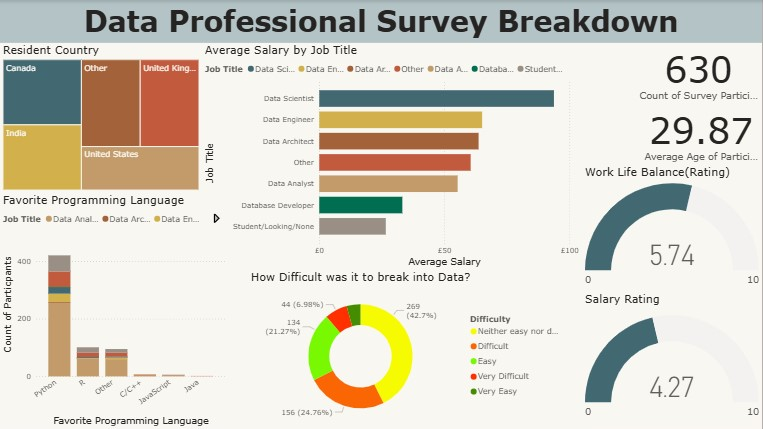

Layout of this report page (visuals, bound fields, positions):
{"tool":"powerbi","page":{"name":"Page 1","canvas":[1280,720],"ordinal":0},"visuals":[{"type":"textbox","box":[0,0,1280,72.2],"z":0},{"type":"card","fields":{"Values":["Count(Data Professional Survey.Unique ID)"]},"box":[1066.7,72.2,213.3,102.5],"z":1000},{"type":"card","fields":{"Values":["Avg(Data Professional Survey.Q10 - Current Age)"]},"box":[1075.1,174.7,204.9,102.5],"z":2000},{"type":"barChart","title":"Average Salary by Job Title","fields":{"Category":["Data Professional Survey.Q1 - Which Title Best Fits your Current Role?.1"],"Y":["Avg(Data Professional Survey.Average Salary)"],"Series":["Data Professional Survey.Q1 - Which Title Best Fits your Current Role?.1"]},"box":[339.3,72.2,638.3,381.3],"z":3000},{"type":"columnChart","title":"Favorite Programming Language","fields":{"Category":["Data Professional Survey.Q5 - Favorite Programming Language.1"],"Y":["CountNonNull(Data Professional Survey.Unique ID)"],"Series":["Data Professional Survey.Q1 - Which Title Best Fits your Current Role?.1"]},"box":[0,324.2,383,396.4],"z":4000},{"type":"treemap","title":"Resident Country","fields":{"Group":["Data Professional Survey.Q11 - Which Country do you live in?.1"],"Values":["Count(Data Professional Survey.Q11 - Which Country do you live in?.1)"]},"box":[0,72.2,339.3,252],"z":5000},{"type":"gauge","title":"Work Life Balance(Rating)","fields":{"Y":["Avg(Data Professional Survey.Q6 - How Happy are you in your Current Position with the following? (Work/Life Balance))"],"MinValue":["Min(Data Professional Survey.Q6 - How Happy are you in your Current Position with the following? (Work/Life Balance))1"],"MaxValue":["Max(Data Professional Survey.Q6 - How Happy are you in your Current Position with the following? (Work/Life Balance))2"]},"box":[977.6,277.2,302.4,213.3],"z":6000},{"type":"gauge","title":"Salary Rating","fields":{"Y":["Avg(Data Professional Survey.Q6 - How Happy are you in your Current Position with the following? (Salary))"],"MinValue":["Min(Data Professional Survey.Q6 - How Happy are you in your Current Position with the following? (Salary))"],"MaxValue":["Max(Data Professional Survey.Q6 - How Happy are you in your Current Position with the following? (Salary))"]},"box":[977.6,489.9,302.4,230.1],"z":7000},{"type":"donutChart","title":"How Difficult was it to break into Data?","fields":{"Category":["Data Professional Survey.Q7 - How difficult was it for you to break into Data?"],"Y":["CountNonNull(Data Professional Survey.Q7 - How difficult was it for you to break into Data?)"]},"box":[416.6,453.5,535.9,267.1],"z":8000}]}

Visuals, with their boxes in screenshot pixels (x1, y1, x2, y2), scaled from the page's 1280x720 canvas onto the 763x429 screenshot:
textbox: bbox(0, 0, 762, 43)
card - Count(Data Professional Survey.Unique ID): bbox(636, 43, 762, 104)
card - Avg(Data Professional Survey.Q10 - Current Age): bbox(641, 104, 762, 165)
"Average Salary by Job Title" barChart: bbox(202, 43, 583, 270)
"Favorite Programming Language" columnChart: bbox(0, 193, 228, 428)
"Resident Country" treemap: bbox(0, 43, 202, 193)
"Work Life Balance(Rating)" gauge: bbox(583, 165, 762, 292)
"Salary Rating" gauge: bbox(583, 292, 762, 428)
"How Difficult was it to break into Data?" donutChart: bbox(248, 270, 568, 428)
